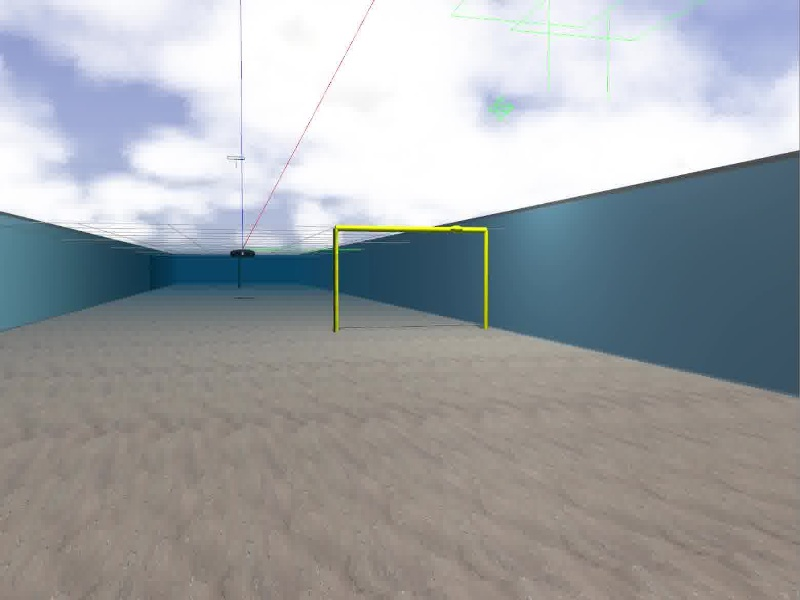gate: (330, 223, 491, 333)
